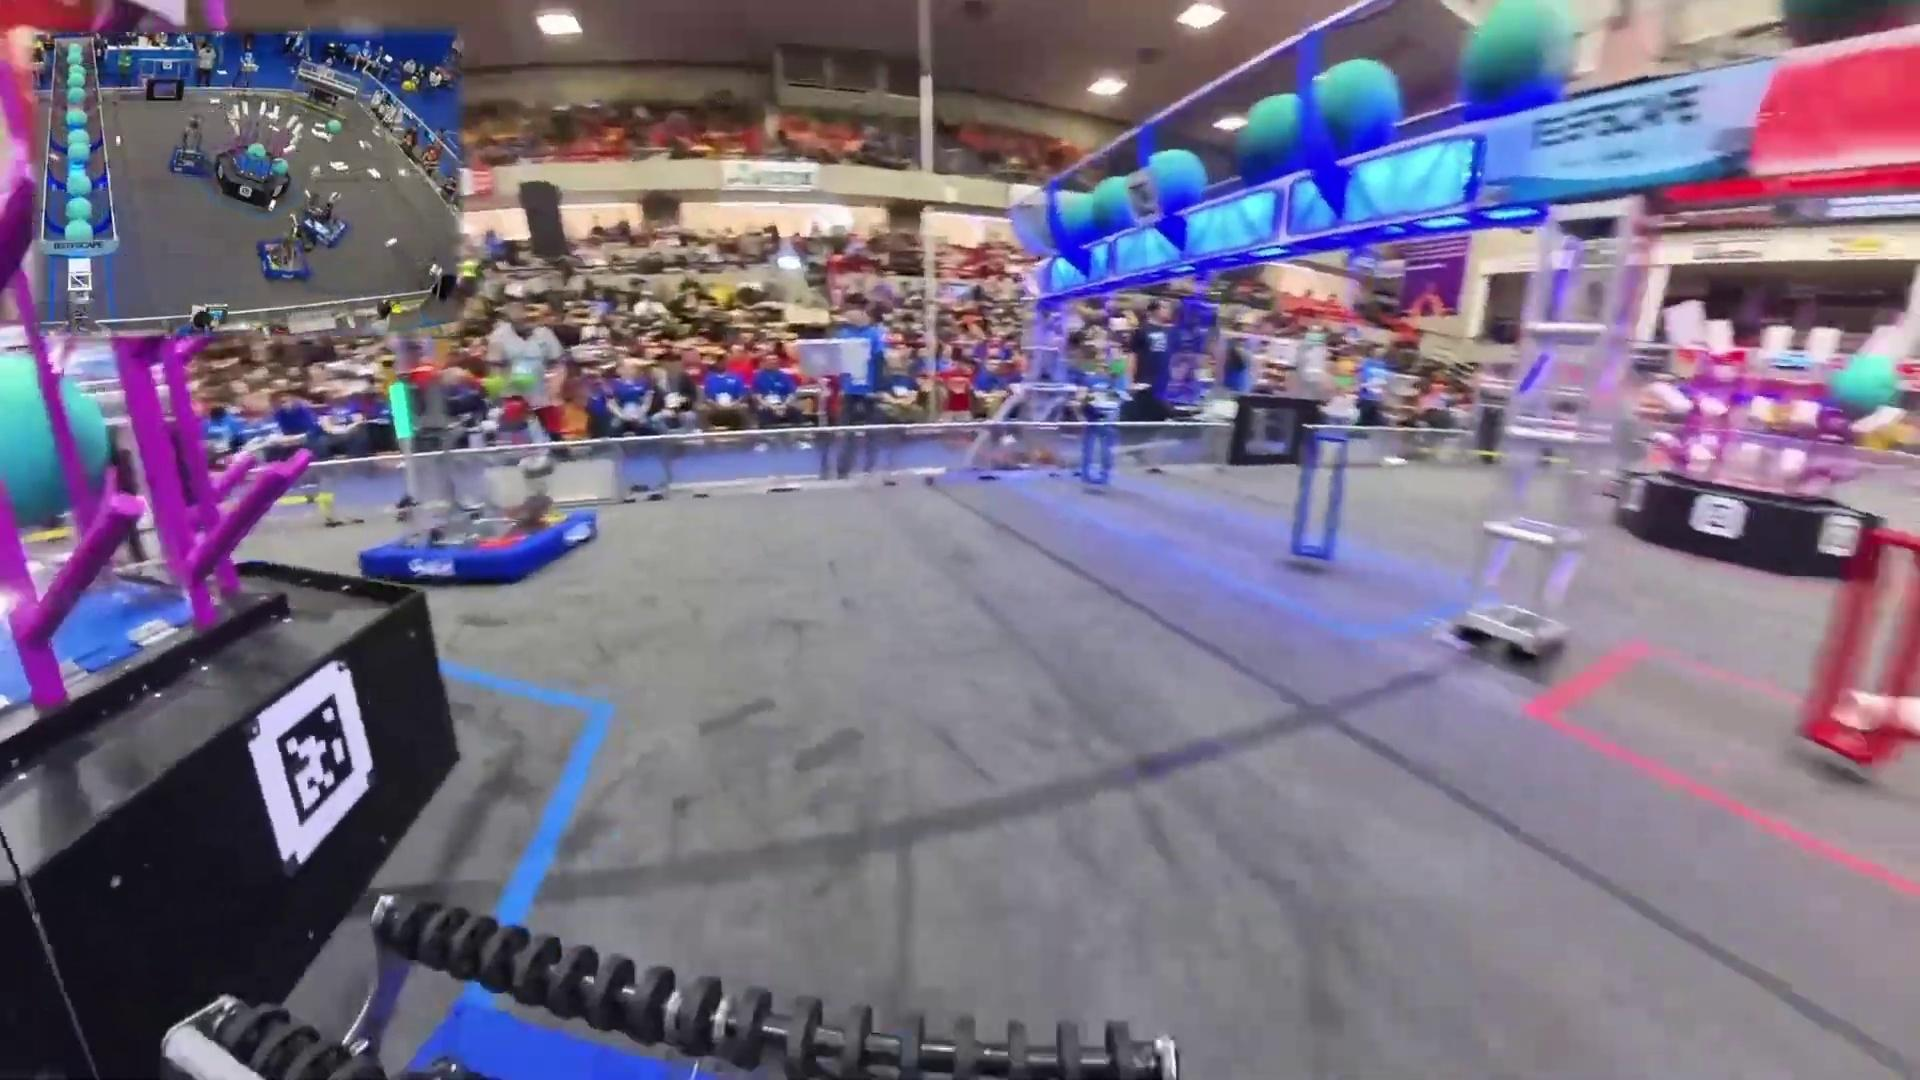robot: (360, 367, 599, 585), (256, 220, 311, 281), (299, 193, 353, 251), (169, 115, 218, 178)
